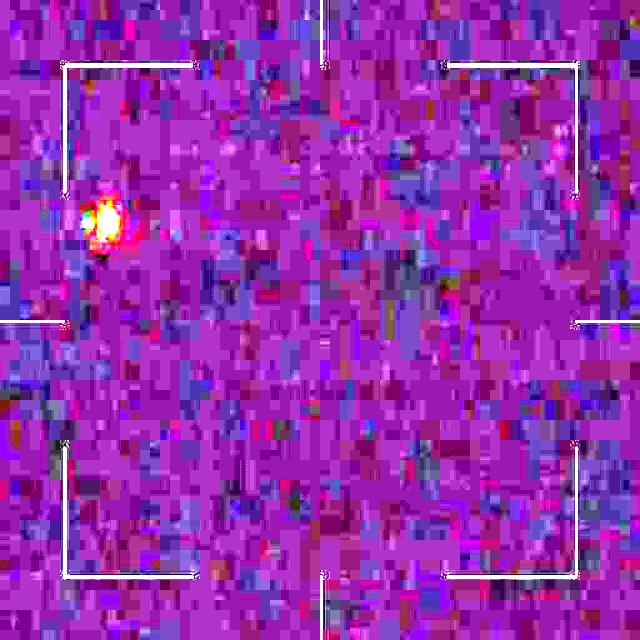bird: (82, 201, 120, 246)
